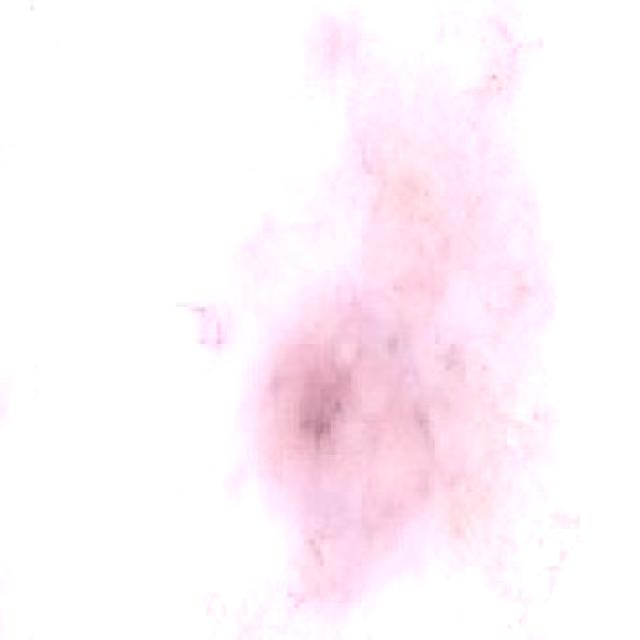BCC: (173, 0, 618, 540)
